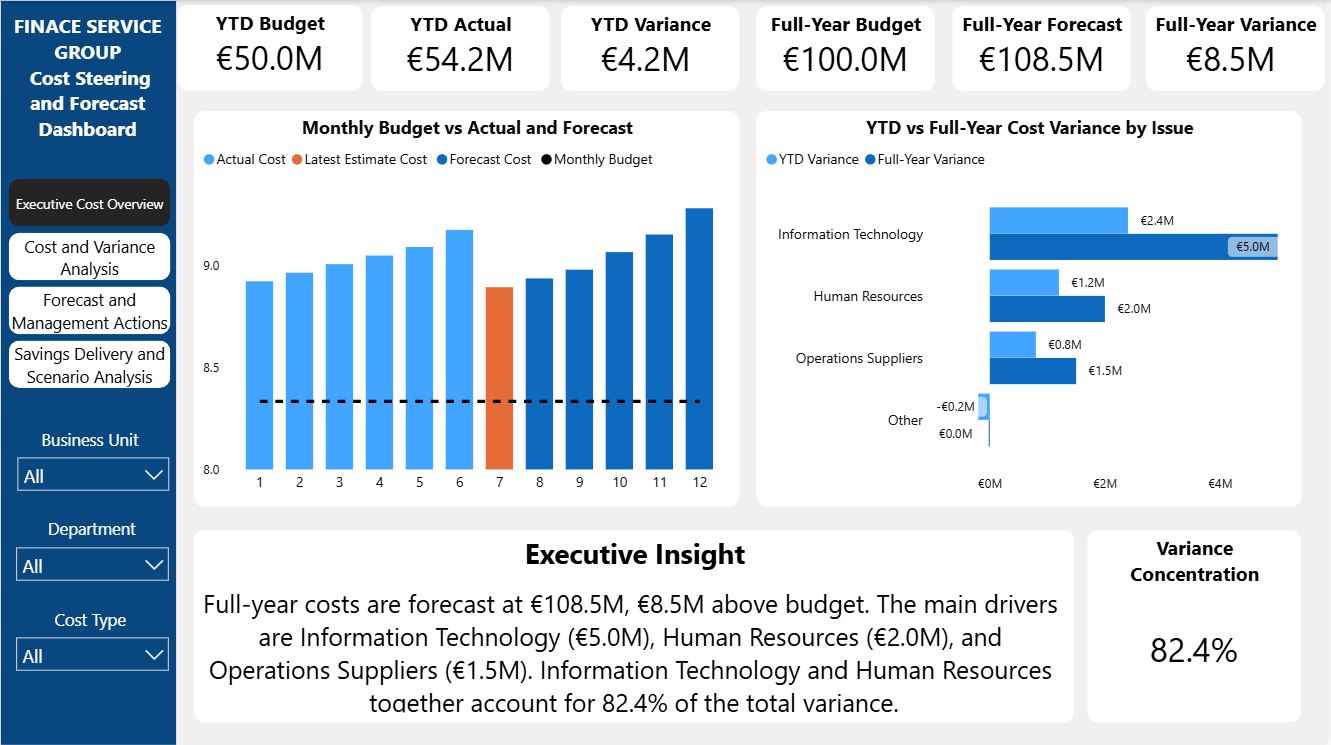

The page's visual inventory and layout, read from the dashboard file:
{"tool":"powerbi","page":{"name":"Executive Cost Overview","canvas":[1280,720],"ordinal":0},"visuals":[{"type":"shape","box":[0,0,171.2,720.1],"z":0},{"type":"card","title":"YTD Budget","fields":{"Values":["_Measures.YTD Budget (€m)"]},"box":[171.3,4.8,178,82],"z":1000},{"type":"card","title":"YTD Actual","fields":{"Values":["_Measures.YTD Actual (€m)"]},"box":[357.8,6.5,171.9,81.2],"z":2000},{"type":"card","title":"YTD Variance","fields":{"Values":["_Measures.YTD Variance (€m)"]},"box":[541.9,6.5,171.9,81.2],"z":3000},{"type":"card","title":"Full-Year Budget","fields":{"Values":["_Measures.Budget Cost (€m)"]},"box":[730,6.5,171.9,81.2],"z":4000},{"type":"card","title":"Full-Year Forecast","fields":{"Values":["_Measures.Full-Year Forecast (€m)"]},"box":[919.5,6.5,171.9,81.2],"z":5000},{"type":"card","title":"Full-Year Variance","fields":{"Values":["_Measures.Cost Variance (€m)"]},"box":[1106.2,6.5,171.9,81.2],"z":6000},{"type":"lineStackedColumnComboChart","title":"Monthly Budget vs Actual and Forecast","fields":{"Category":["Dim_Date.Month Number"],"Y":["_Measures.Actual Cost (€m)","_Measures.Latest Estimate Cost (€m)","_Measures.Forecast Cost (€m)"],"Y2":["_Measures.Monthly Budget Baseline (€m)"]},"box":[186.8,106.9,526.5,381.6],"z":7000},{"type":"clusteredBarChart","title":"YTD vs Full-Year Cost Variance by Issue","fields":{"Y":["_Measures.YTD Variance (€m)","_Measures.Cost Variance (€m)"],"Category":["CostItemMasterTable.Issue_Group"]},"box":[729.5,106.9,526.5,381.6],"z":8000},{"type":"card","title":"Executive Insight","fields":{"Values":["_Measures.Executive Cost Commentary"]},"box":[186.8,511.6,849.9,185.4],"z":9000},{"type":"card","title":"Variance Concentration","fields":{"Values":["_Measures.IT and HR Variance Concentration %"]},"box":[1050.2,511.6,205.7,185.4],"z":10000},{"type":"textbox","box":[8.4,405.8,157,40],"z":11000},{"type":"slicer","fields":{"Values":["CostItemMasterTable.Brand"]},"box":[11.5,436.3,156.1,46.6],"z":12000},{"type":"textbox","box":[11.5,491.6,157.4,40.3],"z":13000},{"type":"slicer","fields":{"Values":["CostItemMasterTable.Department"]},"box":[10.3,523.1,157.4,45.3],"z":14000},{"type":"textbox","box":[9,578.5,157.4,40.3],"z":15000},{"type":"slicer","fields":{"Values":["CostItemMasterTable.Cost_Nature"]},"box":[10.3,610,157.4,45.3],"z":16000},{"type":"pageNavigator","box":[8.6,172.2,156.4,205.2],"z":17000},{"type":"textbox","box":[0,7.2,169.4,147.8],"z":18000}]}

Visuals, with their boxes in screenshot pixels (x1, y1, x2, y2), scaled from the page's 1280x720 canvas onto the 1331x745 screenshot:
shape: 0 0 178 744
"YTD Budget" card: 178 5 363 90
"YTD Actual" card: 372 7 551 91
"YTD Variance" card: 563 7 742 91
"Full-Year Budget" card: 759 7 938 91
"Full-Year Forecast" card: 956 7 1135 91
"Full-Year Variance" card: 1150 7 1329 91
"Monthly Budget vs Actual and Forecast" lineStackedColumnComboChart: 194 111 742 505
"YTD vs Full-Year Cost Variance by Issue" clusteredBarChart: 759 111 1306 505
"Executive Insight" card: 194 529 1078 721
"Variance Concentration" card: 1092 529 1306 721
textbox: 9 420 172 461
slicer - CostItemMasterTable.Brand: 12 451 174 500
textbox: 12 509 176 550
slicer - CostItemMasterTable.Department: 11 541 174 588
textbox: 9 599 173 640
slicer - CostItemMasterTable.Cost_Nature: 11 631 174 678
pageNavigator: 9 178 172 391
textbox: 0 7 176 160
